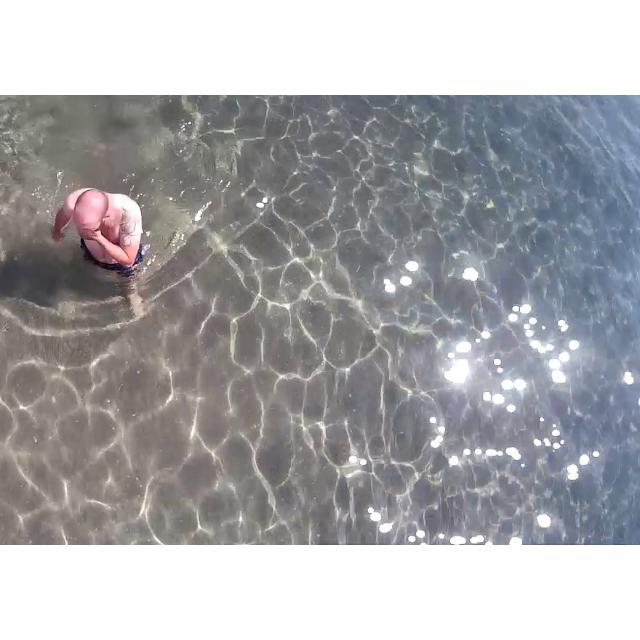human: (43, 173, 154, 282)
